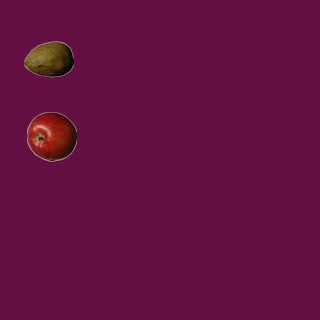Apple Braeburn: (26, 111, 76, 161)
Papaya: (23, 34, 73, 84)
